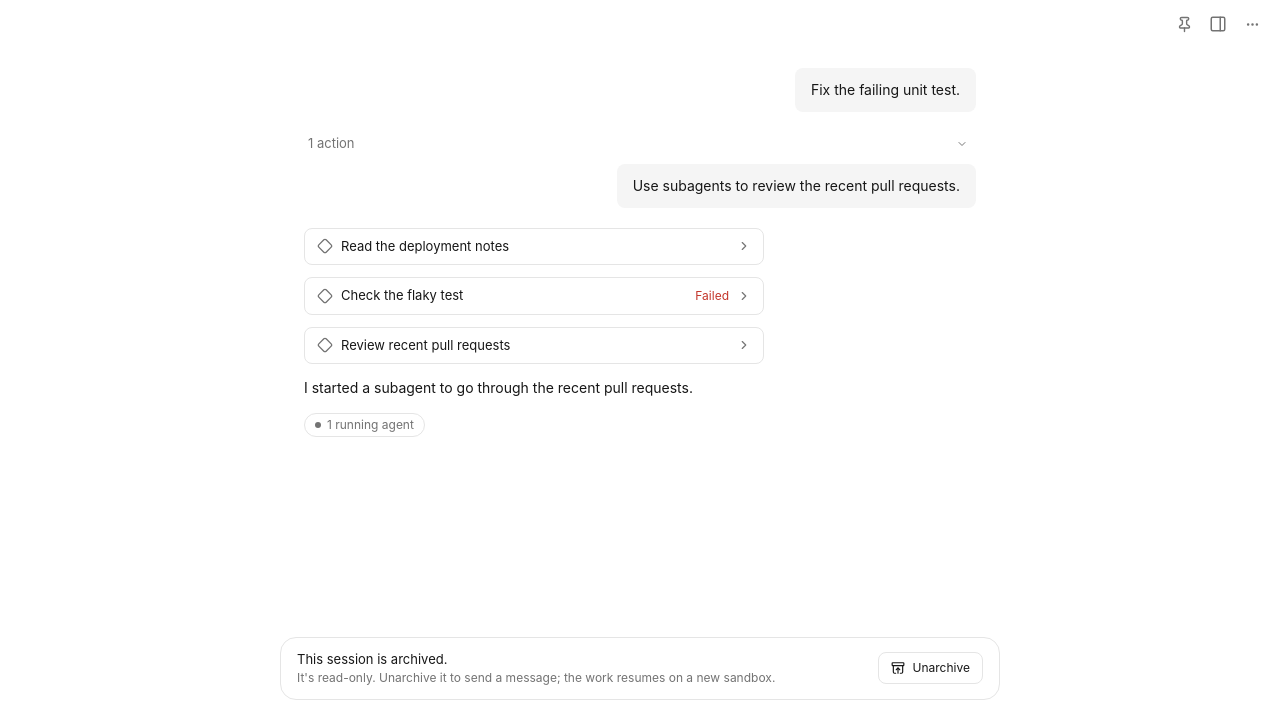
Test: subagents on the session screen › offers no stop on an archived session, whose Agents view only reads
Click the button "1 running agent": point(364, 425) [304,413,425,437]
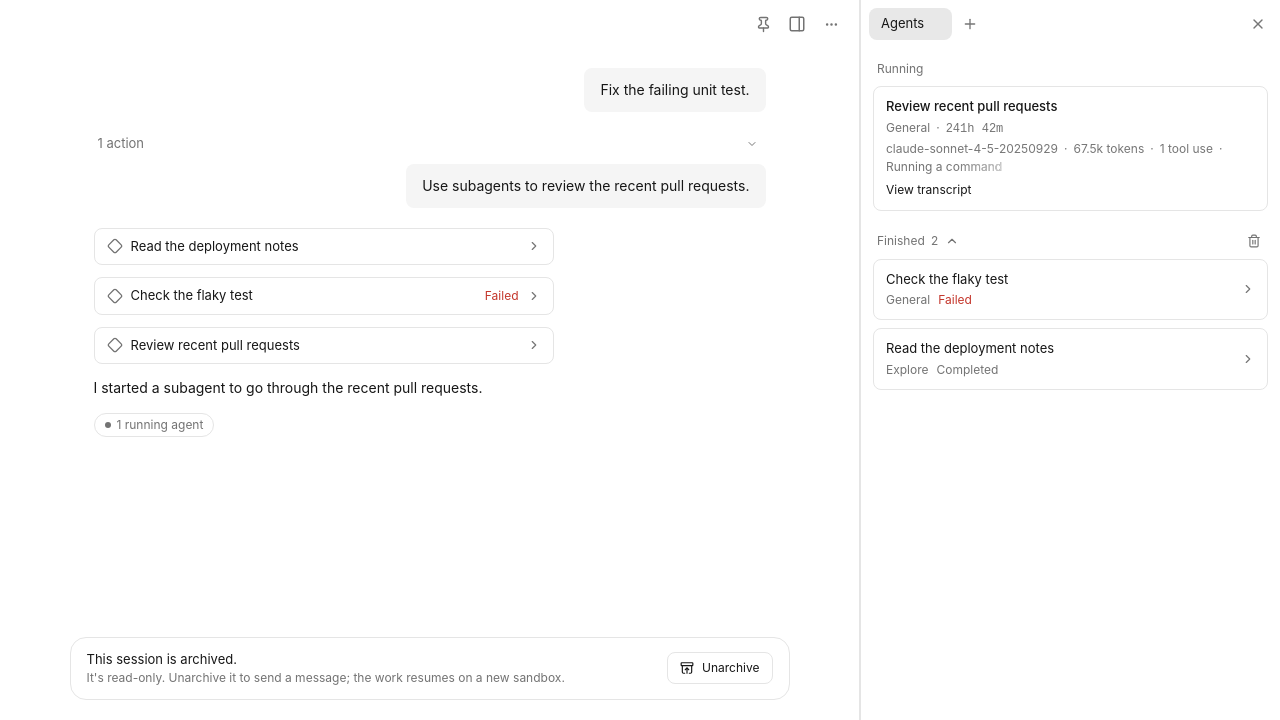
Expected: the element with test id "agents-running" is shown, [873,48,1268,210]
